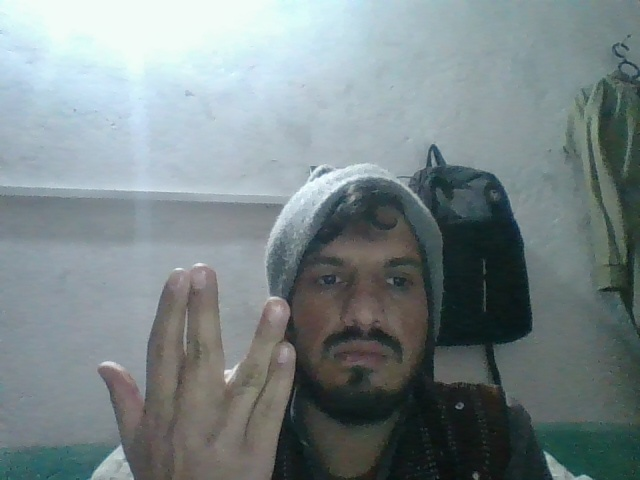LiveLong: (93, 263, 299, 479)
